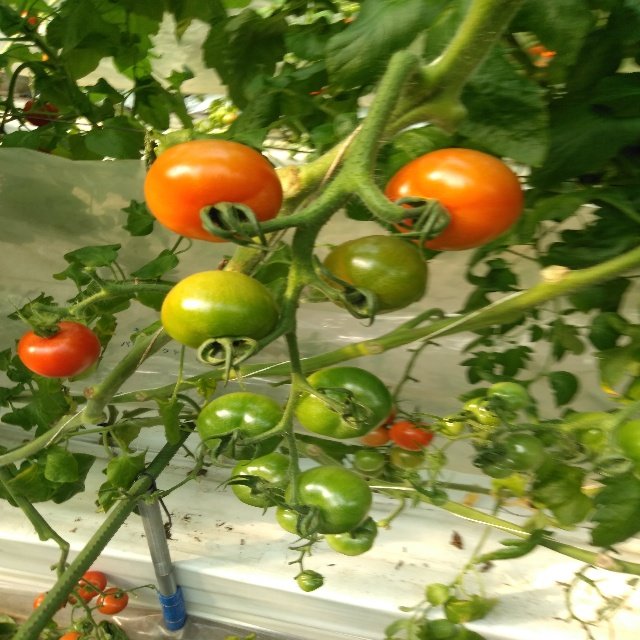l_fully_ripened: (383, 147, 524, 252), (16, 321, 101, 378), (388, 420, 434, 451), (73, 570, 107, 599)
l_green: (160, 270, 278, 352), (319, 235, 429, 316), (294, 366, 393, 440), (197, 391, 286, 461), (284, 464, 372, 534), (231, 451, 302, 508), (323, 515, 377, 556), (498, 433, 543, 473), (486, 382, 528, 412), (277, 503, 315, 535), (390, 445, 426, 470), (353, 450, 384, 472), (485, 458, 514, 479), (297, 570, 324, 592), (439, 414, 463, 436)
l_half_ripened: (143, 139, 284, 244), (95, 588, 129, 615), (359, 427, 391, 447)
